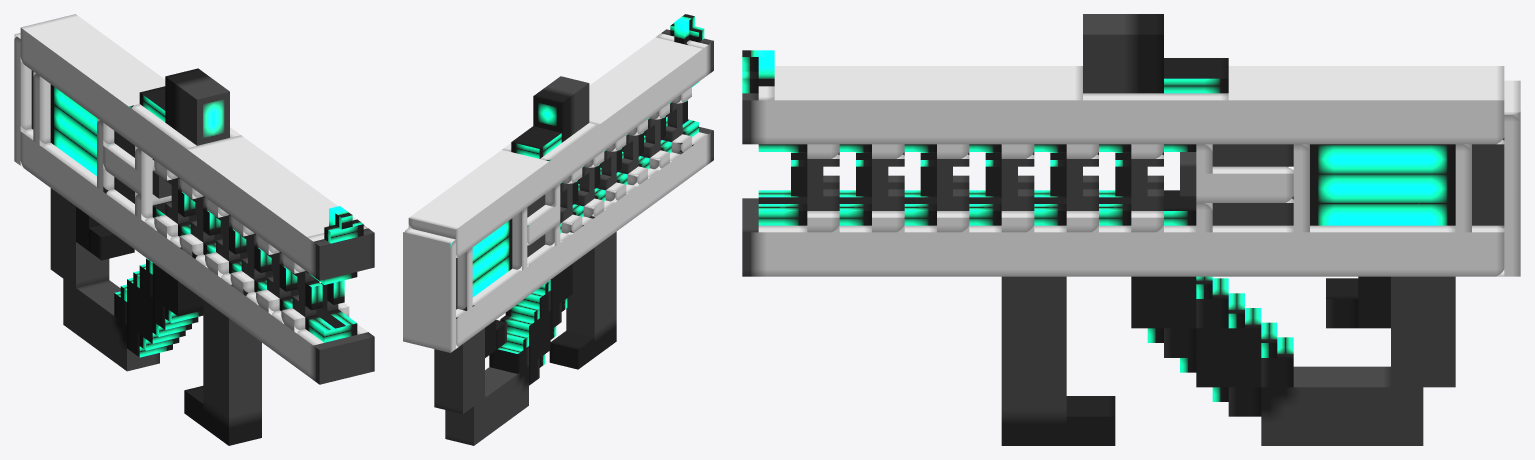
File: Railgun.dae
The picture shows the model from 3 angles, left to right: view 1: azimuth 30°, elevation 25°; view 2: azimuth 150°, elevation 25°; view 3: azimuth 270°, elevation 25°; orthographic projection. The views are drawn at different scales.
Visible parts, largest first — view 1: Railgun; view 2: Railgun; view 3: Railgun.
Boxes of the visible parts, box(x1,y1,x2,y2) form: Railgun: box(14, 14, 374, 445); Railgun: box(403, 14, 713, 445); Railgun: box(742, 14, 1520, 445).
Size of the model in its own units: 5 by 28 by 48.
Materials: 1 (1 with a texture image).
